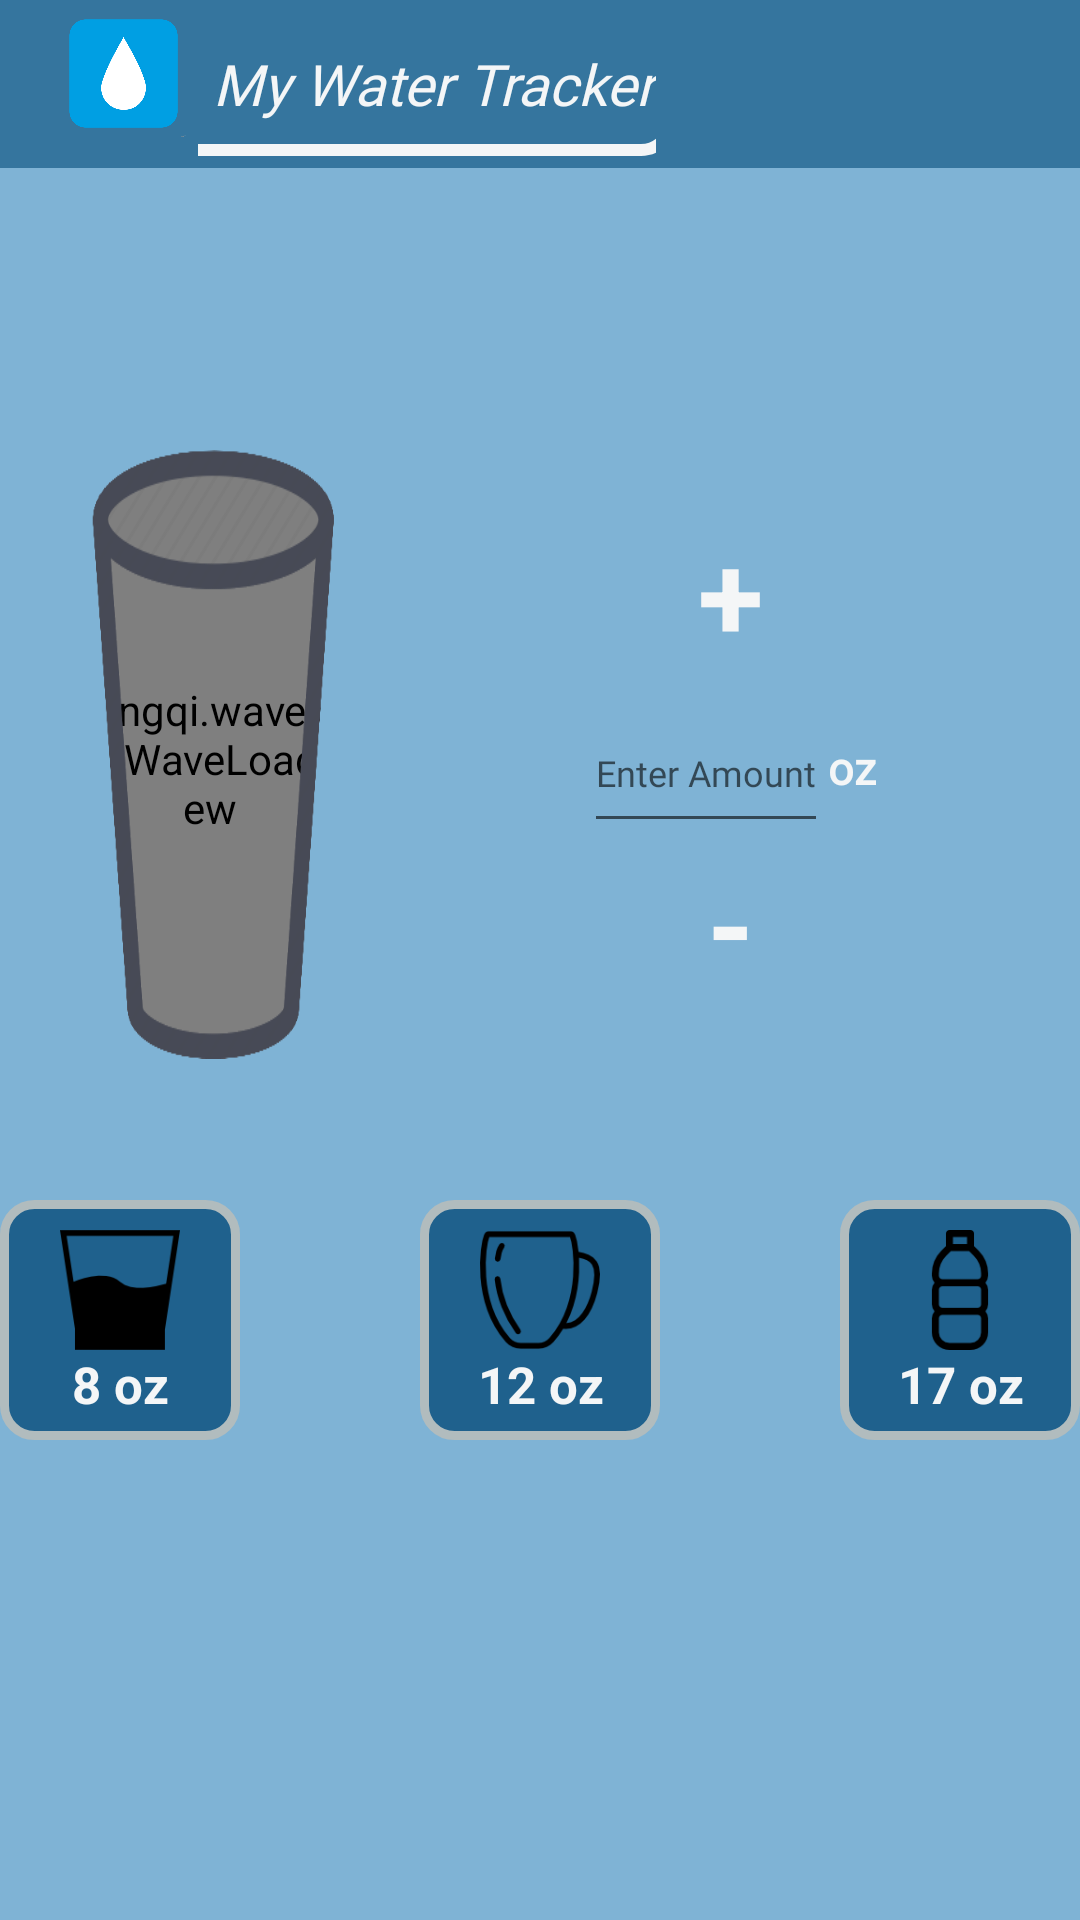

Screen size 1080 x 1920. Icon name, then its box in pixels as (x1, y1, x2, y2):
bottle: (932, 1230, 988, 1350)
mug: (480, 1231, 600, 1349)
